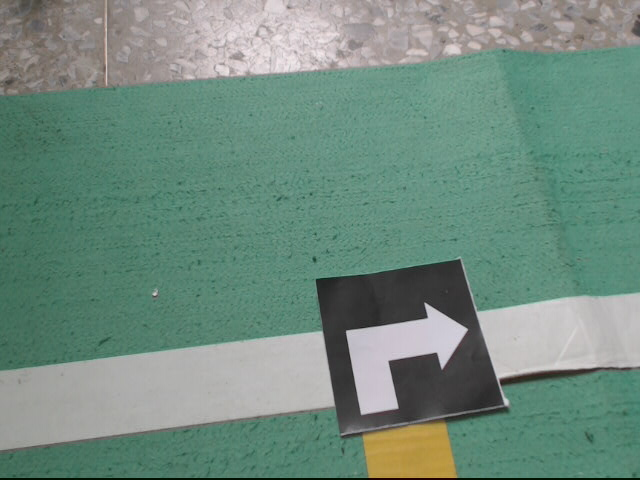right: (316, 259, 506, 438)
